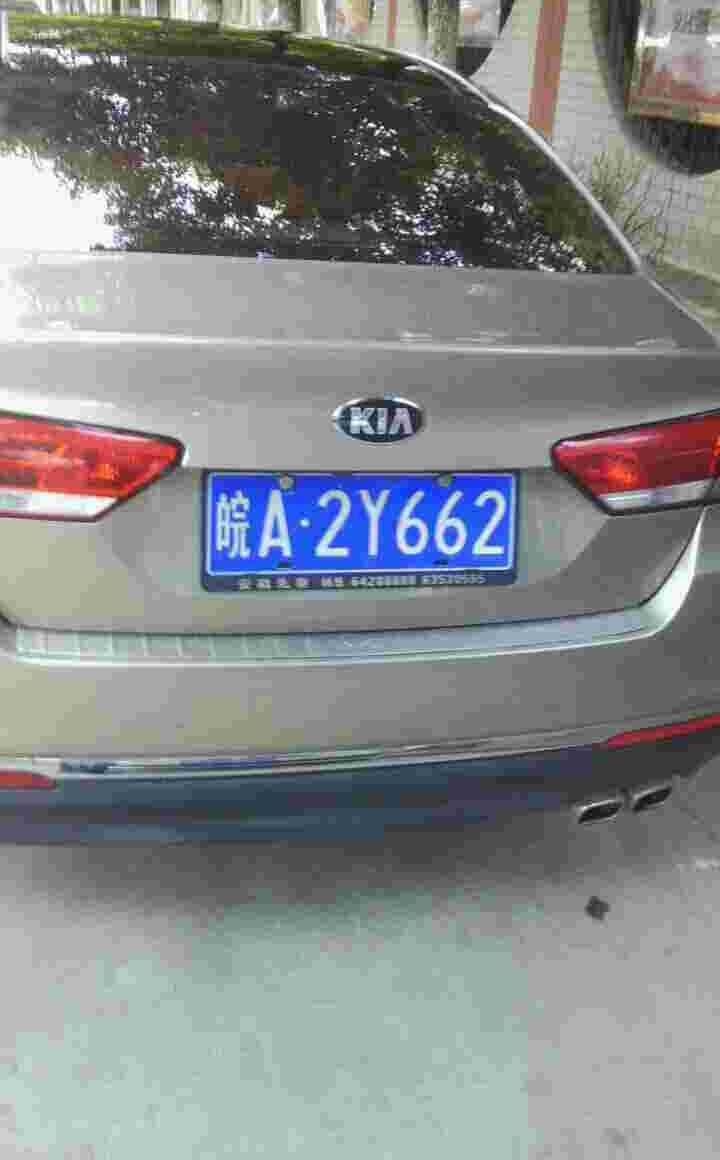license_plate: (201, 471, 524, 578)
